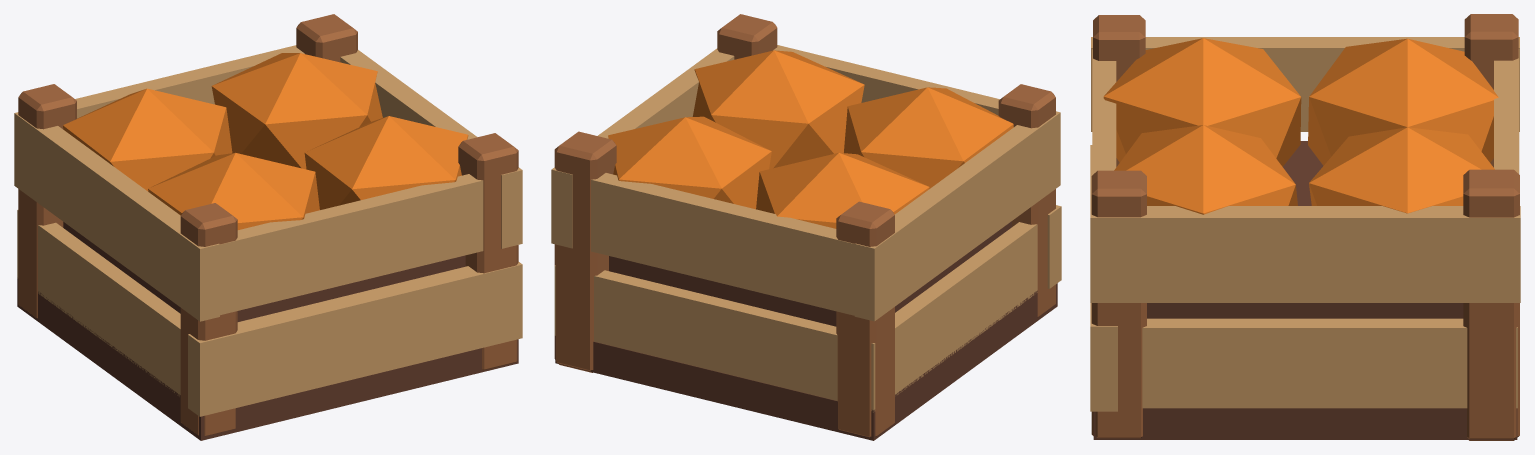
The model's file is Crate_Pumpkin.fbx.
The picture shows the model from 3 angles, left to right: view 1: azimuth 30°, elevation 25°; view 2: azimuth 150°, elevation 25°; view 3: azimuth 270°, elevation 25°; orthographic projection. The views are drawn at different scales.
Visible parts, largest first — view 1: Crate_Pumpkin; view 2: Crate_Pumpkin; view 3: Crate_Pumpkin.
Part boxes in pixels (box(x1,y1,x2,y2)): Crate_Pumpkin: box(14, 14, 522, 440); Crate_Pumpkin: box(551, 14, 1061, 440); Crate_Pumpkin: box(1090, 14, 1520, 440).
Size of the model in its own units: 0.7162 by 0.4991 by 0.7162.
